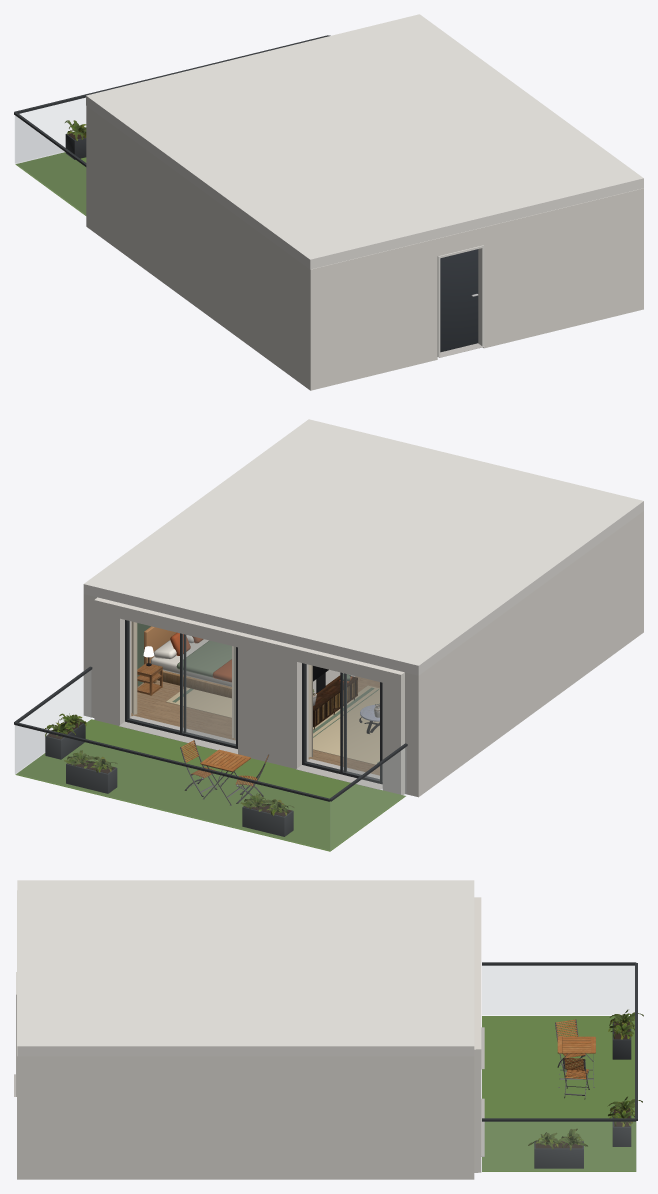
File: lot.glb
3 views of the same model, one above another, from view 1: azimuth 30°, elevation 25°; view 2: azimuth 150°, elevation 25°; view 3: azimuth 270°, elevation 25° (orthographic).
Parts seen in each view (by area): view 1: m_Plafond, m_Enduit blanc, m_Verre, m_Porte paliere, m_Herbe, m_Alu anthracite, m_Porte; view 2: m_Plafond, m_Enduit blanc, m_Verre, m_Herbe, m_Alu anthracite, m_Tapis, m_Parquet, m_Seuil, m_Rideau, m_Couette, m_modern_wooden_cabinet, m_Lin blanc (+6 smaller); view 3: m_Plafond, m_Enduit blanc, m_Herbe, m_Verre, m_Alu anthracite, m_outdoor_table_chair_set_01_chair, m_outdoor_table_chair_set_01_table, m_fern_02, m_fern_02.001, m_Terreau, m_Seuil.
Boxes of the visible parts, left/top/right/bottom form: m_Plafond: left=86, top=14, right=643, bottom=269; m_Enduit blanc: left=86, top=106, right=643, bottom=390; m_Verre: left=15, top=98, right=85, bottom=214; m_Porte paliere: left=440, top=249, right=478, bottom=352; m_Herbe: left=15, top=152, right=86, bottom=215; m_Alu anthracite: left=14, top=35, right=330, bottom=166; m_Porte: left=437, top=245, right=484, bottom=356; m_Plafond: left=83, top=419, right=643, bottom=675; m_Enduit blanc: left=83, top=511, right=643, bottom=797; m_Verre: left=15, top=634, right=406, bottom=850; m_Herbe: left=15, top=719, right=405, bottom=851; m_Alu anthracite: left=14, top=620, right=407, bottom=836; m_Tapis: left=166, top=685, right=379, bottom=764; m_Parquet: left=131, top=676, right=379, bottom=775; m_Seuil: left=119, top=715, right=382, bottom=789; m_Rideau: left=131, top=621, right=312, bottom=758; m_Couette: left=176, top=640, right=231, bottom=677; m_modern_wooden_cabinet: left=313, top=675, right=357, bottom=729; m_Lin blanc: left=151, top=635, right=231, bottom=686; m_Plafond: left=17, top=880, right=474, bottom=1056; m_Enduit blanc: left=17, top=890, right=481, bottom=1179; m_Herbe: left=482, top=1016, right=636, bottom=1171; m_Verre: left=482, top=966, right=636, bottom=1170; m_Alu anthracite: left=482, top=962, right=637, bottom=1168; m_outdoor_table_chair_set_01_chair: left=555, top=1019, right=589, bottom=1099; m_outdoor_table_chair_set_01_table: left=557, top=1036, right=595, bottom=1087; m_fern_02: left=555, top=1009, right=643, bottom=1150; m_fern_02.001: left=528, top=1023, right=634, bottom=1149; m_Terreau: left=535, top=1019, right=629, bottom=1148; m_Seuil: left=14, top=1027, right=484, bottom=1156.
Size of the model in its own units: 7.1 by 2.66 by 11.38.
Materials: 56 (18 with a texture image).
